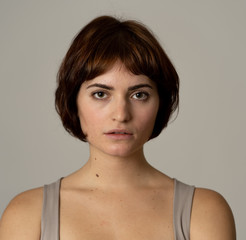young: (60, 11, 179, 165)
